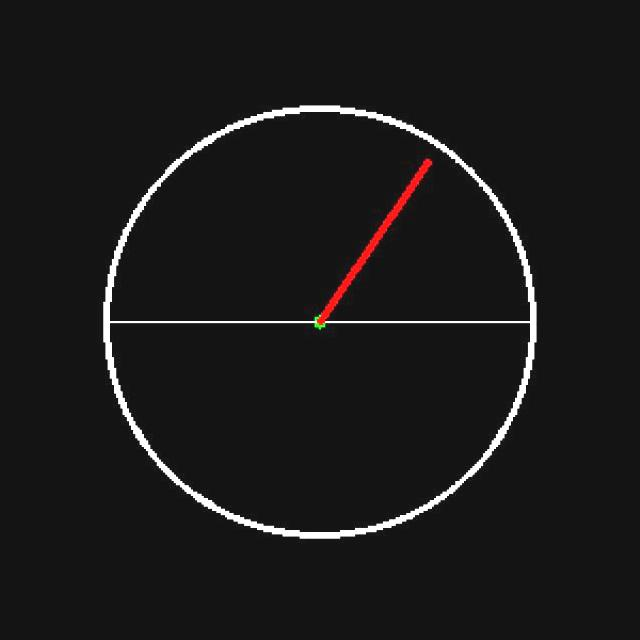Needle_Tip: (390, 141, 458, 198)
Needle_base: (259, 295, 352, 366)
